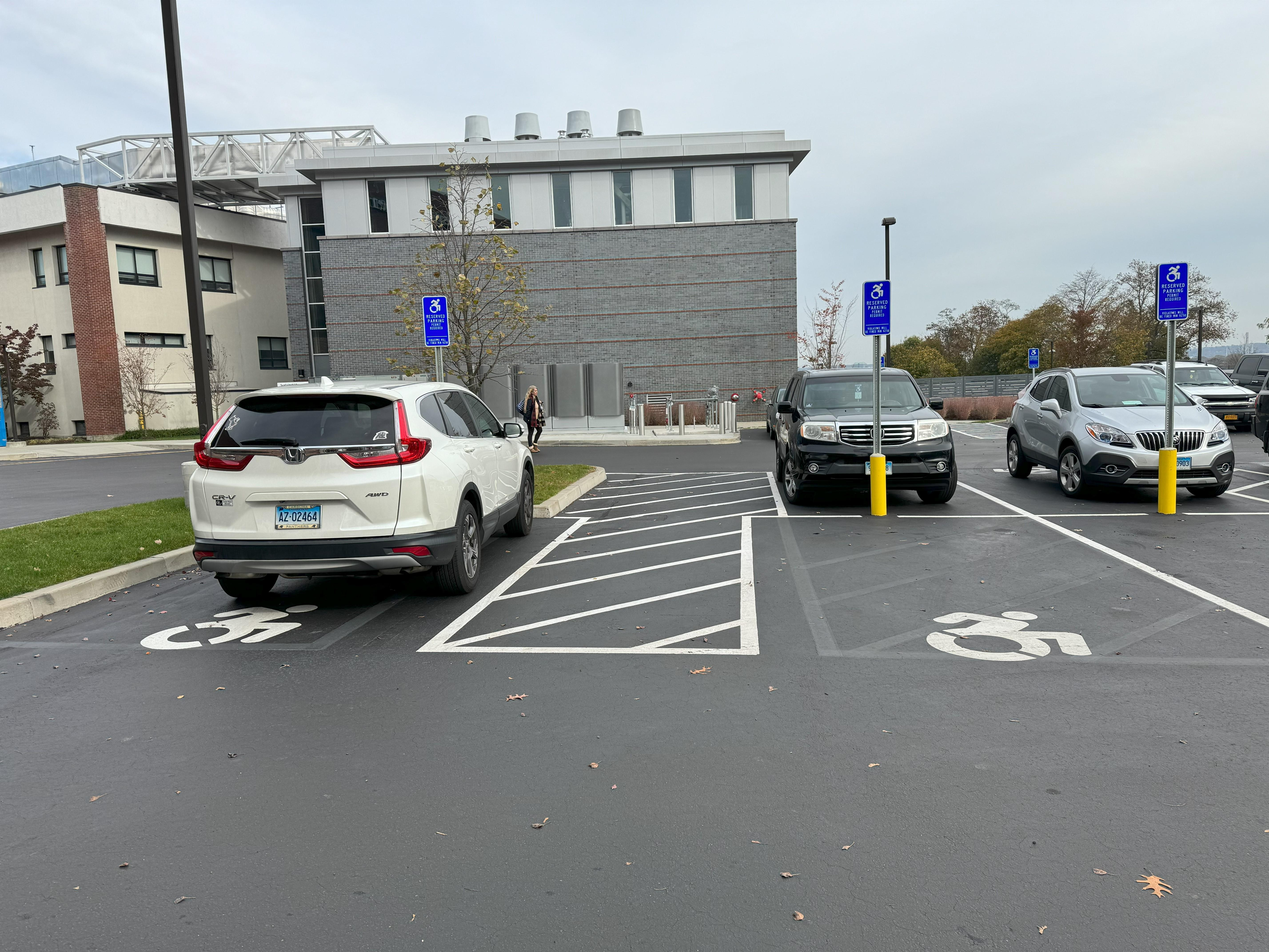empty: (751, 540, 1132, 679), (1169, 529, 1267, 654)
occupied: (138, 329, 557, 600), (1005, 332, 1250, 508), (745, 345, 976, 497)
